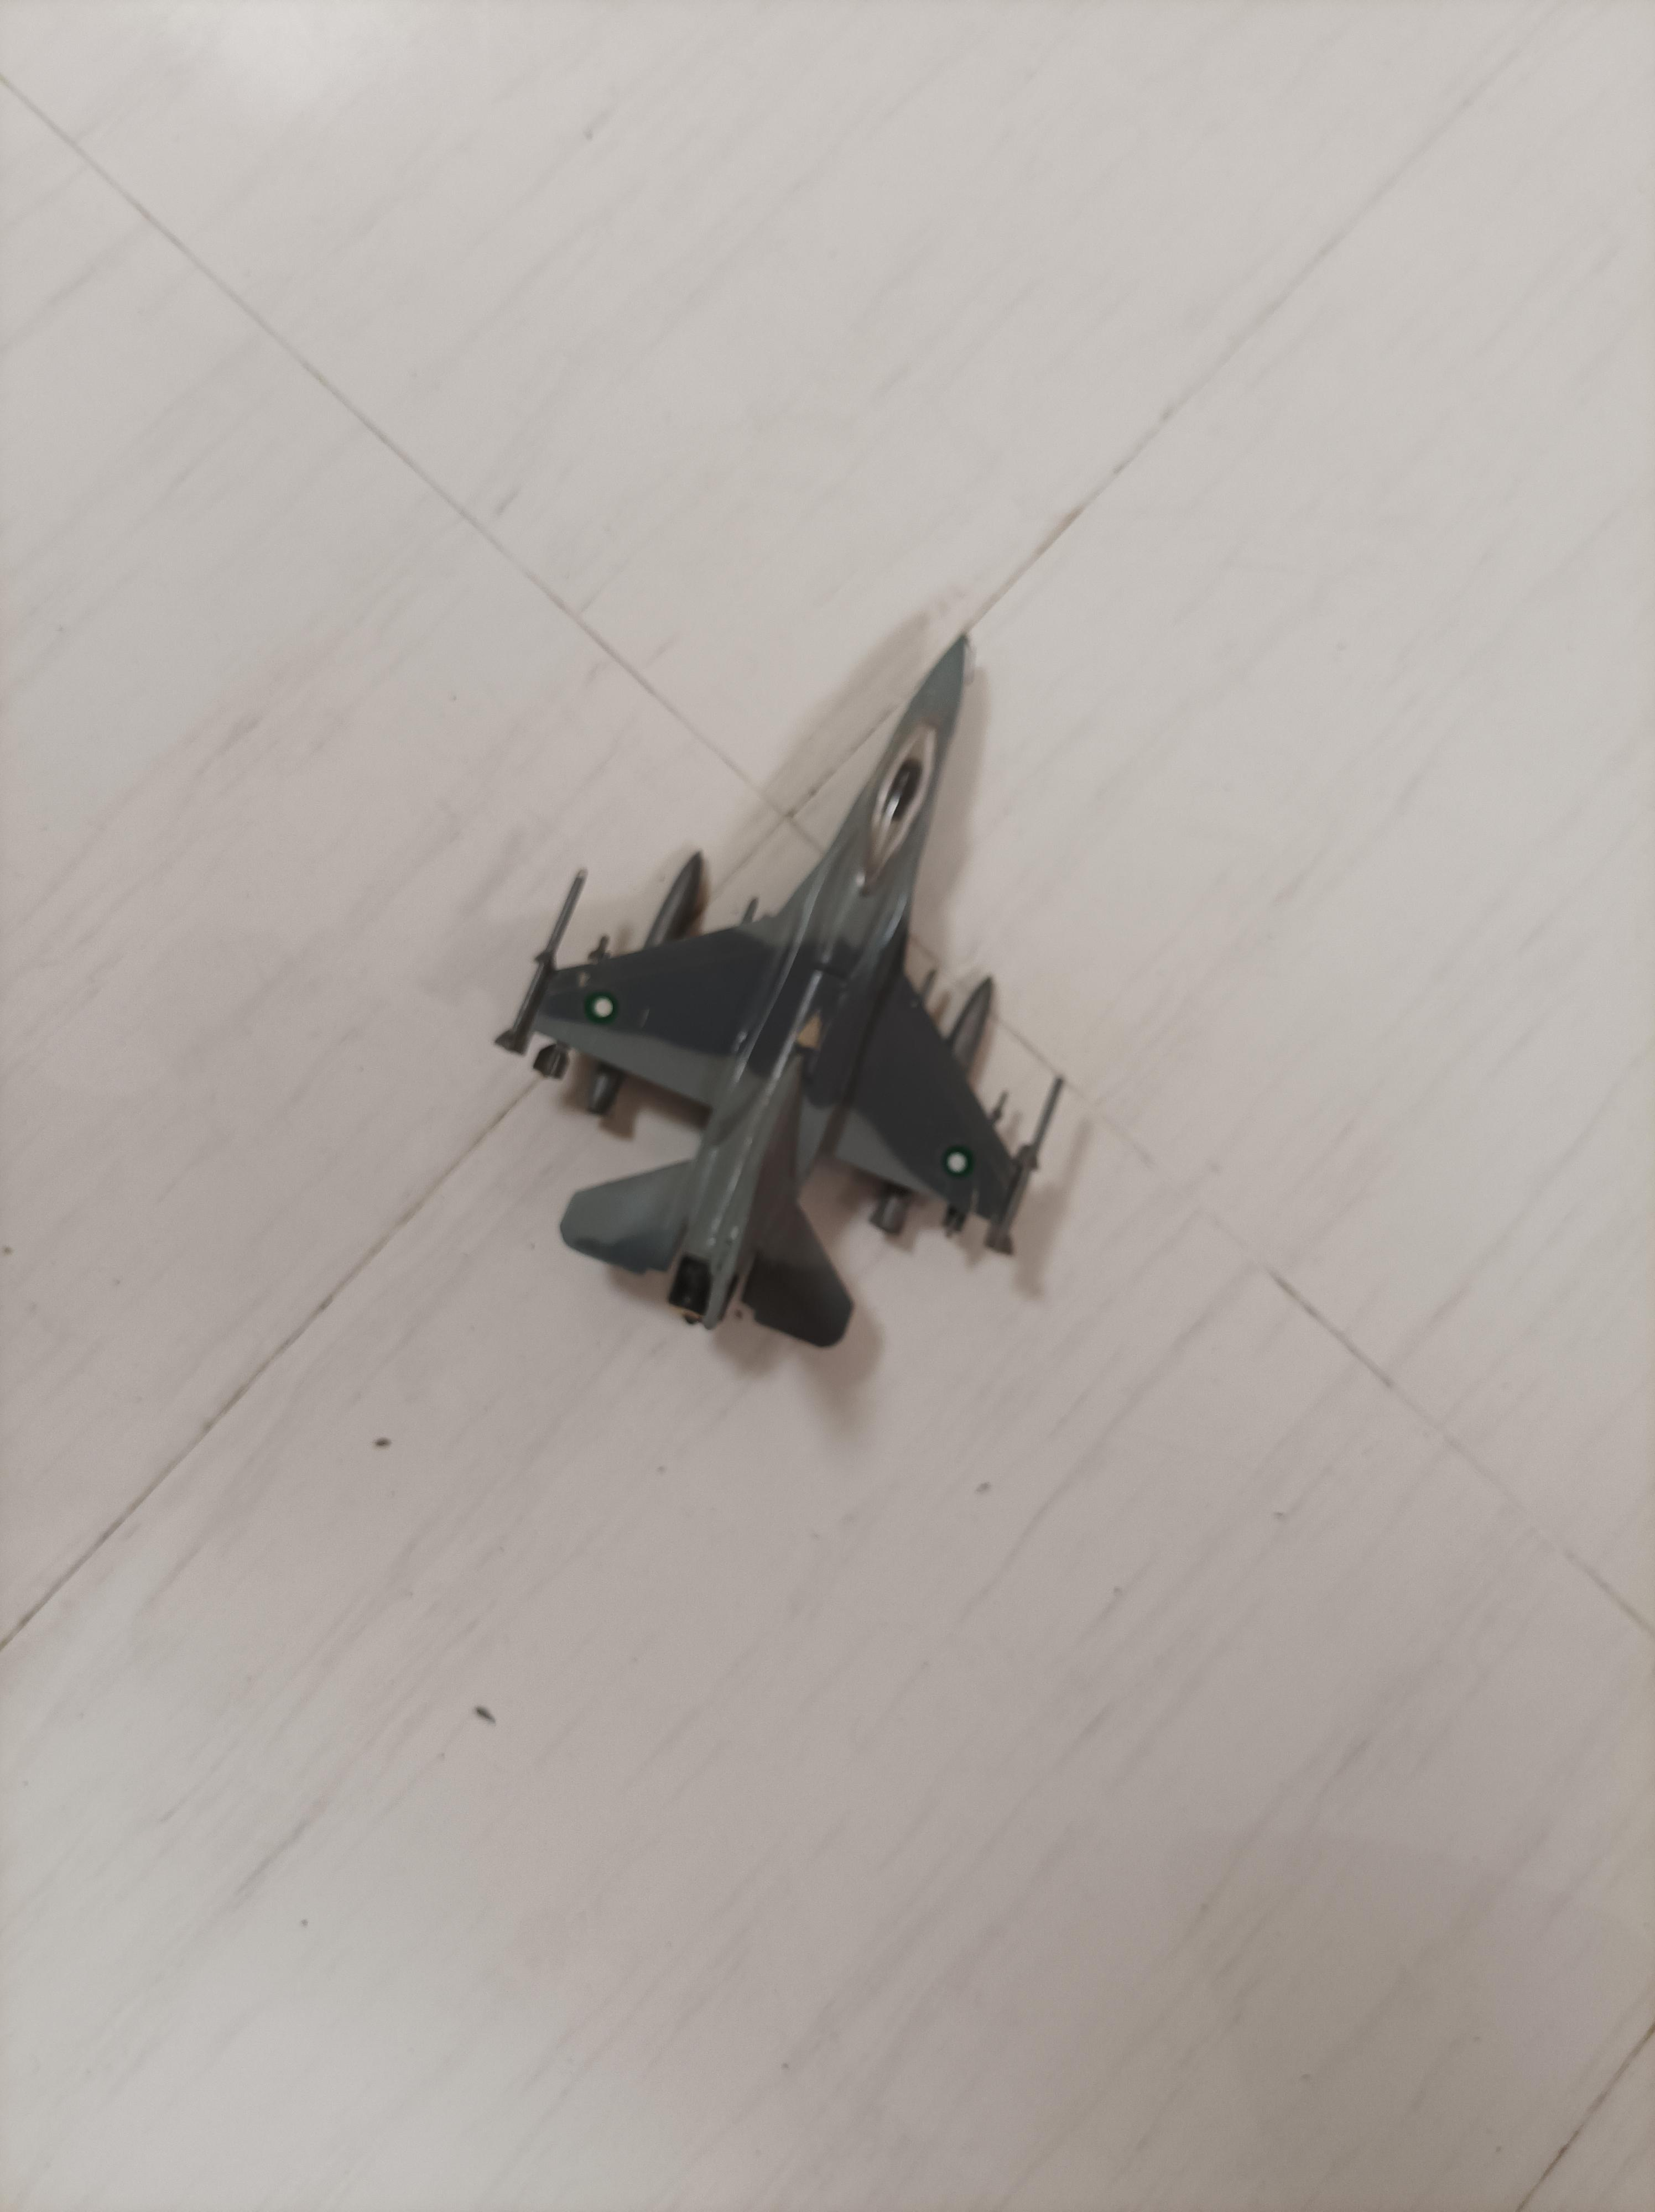Airplane: (483, 599, 1085, 1390)
